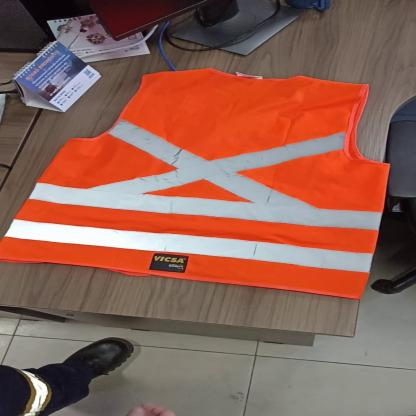colete: (6, 66, 395, 302)
